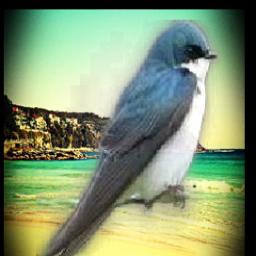Swallow: (36, 20, 220, 256)
